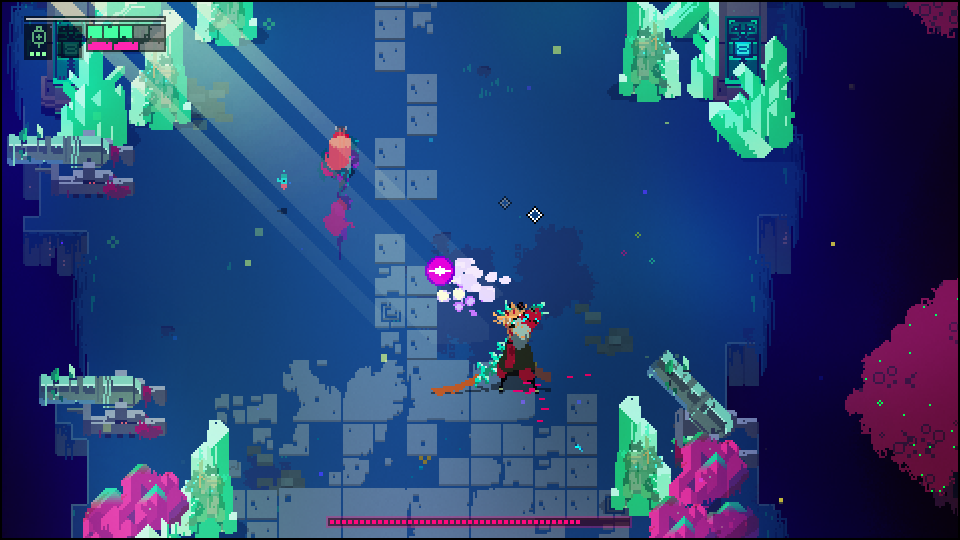hanged_man: (474, 300, 551, 386)
hanged_shot: (426, 254, 452, 281)
player: (329, 122, 354, 179)
